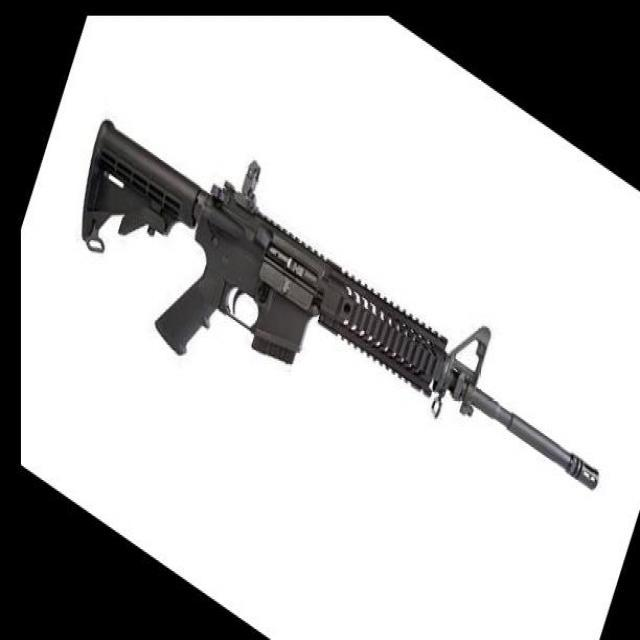weapon: (80, 118, 598, 491)
